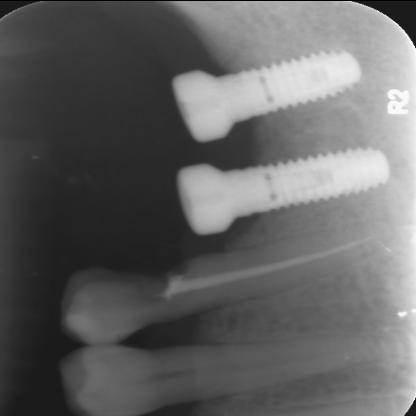Bego: (241, 142, 384, 228), (234, 42, 368, 120)
